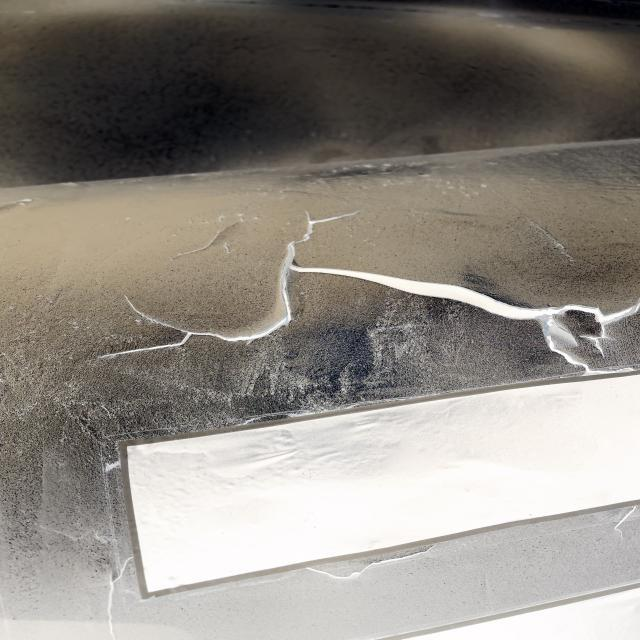crack: (283, 208, 640, 334), (89, 284, 284, 377), (176, 217, 267, 270)
